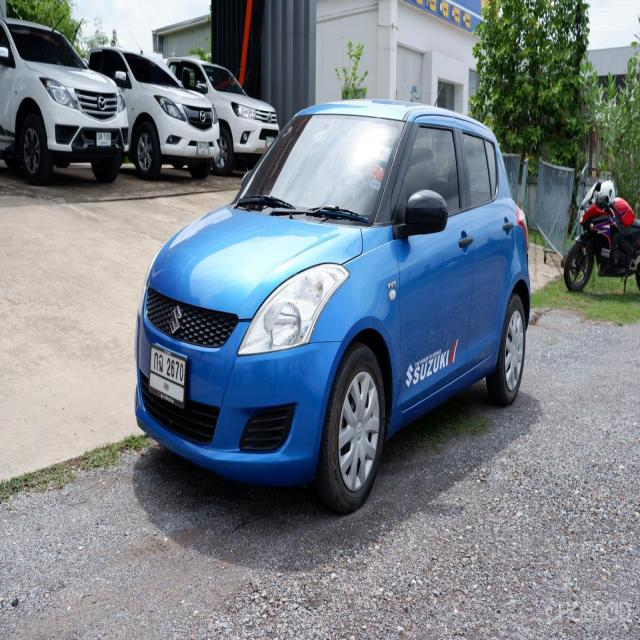license_plate: (148, 342, 190, 411), (94, 127, 112, 150), (196, 140, 210, 157), (266, 135, 276, 150)
